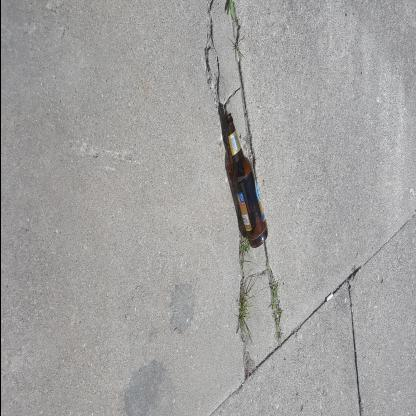cam: (168, 224, 304, 268)
